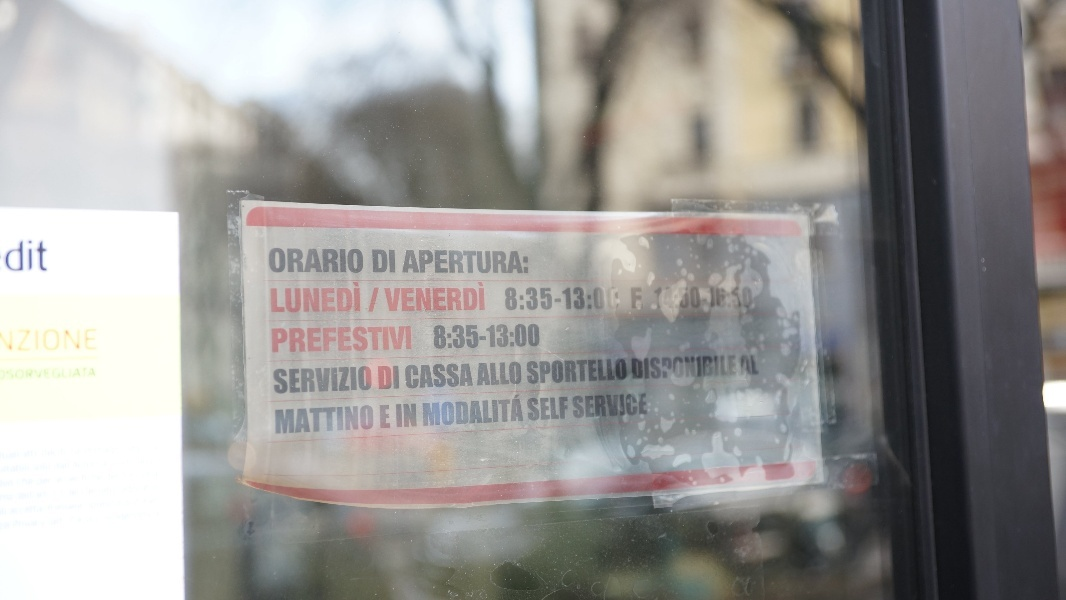text: (17, 238, 32, 273), (33, 238, 48, 273), (433, 394, 448, 427), (449, 394, 464, 427), (465, 394, 480, 427), (481, 394, 496, 427), (497, 394, 512, 427), (273, 281, 288, 313), (289, 281, 304, 313), (305, 281, 320, 313), (321, 281, 336, 313), (337, 281, 352, 313), (385, 281, 400, 312), (401, 281, 416, 312), (417, 281, 432, 312), (433, 281, 448, 312), (449, 281, 464, 312), (465, 281, 480, 312), (3, 238, 16, 273), (289, 405, 304, 435), (305, 405, 320, 435), (321, 405, 336, 435), (337, 405, 352, 435), (353, 405, 368, 435), (273, 325, 288, 354), (289, 325, 304, 354), (305, 325, 320, 354), (321, 325, 336, 354), (337, 325, 352, 354), (353, 325, 368, 354), (369, 325, 384, 354), (385, 325, 400, 354), (273, 366, 288, 395), (289, 366, 304, 395), (305, 366, 320, 395), (321, 366, 336, 395), (337, 366, 352, 395), (353, 366, 368, 395), (529, 358, 544, 386), (545, 358, 560, 386), (561, 358, 576, 386), (577, 358, 592, 386), (593, 358, 608, 386), (609, 358, 624, 386), (721, 355, 737, 381), (433, 323, 448, 350), (449, 323, 464, 350), (465, 323, 480, 350), (481, 323, 496, 350), (497, 323, 512, 350), (513, 323, 528, 350), (417, 363, 432, 390), (433, 363, 448, 390), (449, 363, 464, 390), (577, 393, 592, 420), (593, 393, 608, 420), (609, 393, 624, 420), (625, 393, 640, 420), (385, 365, 401, 390), (401, 404, 417, 429), (481, 361, 496, 387), (497, 361, 512, 387), (641, 355, 656, 381), (657, 355, 672, 381), (673, 355, 688, 381), (689, 355, 704, 381), (705, 355, 720, 381), (275, 405, 288, 435), (513, 250, 529, 274), (273, 248, 288, 273), (289, 248, 304, 273), (305, 248, 320, 273), (321, 248, 336, 273), (337, 248, 352, 273), (529, 397, 544, 422), (545, 397, 560, 422), (81, 329, 97, 352), (513, 394, 524, 427), (417, 250, 432, 274), (433, 250, 448, 274), (449, 250, 464, 274), (465, 250, 480, 274), (481, 250, 496, 274), (497, 250, 512, 274), (577, 287, 592, 311), (593, 287, 608, 311), (513, 287, 528, 311), (529, 287, 544, 311), (657, 287, 672, 310), (673, 287, 688, 310), (33, 329, 48, 352), (49, 329, 64, 352), (65, 329, 80, 352), (562, 287, 576, 311), (721, 286, 736, 308), (737, 286, 752, 308), (1, 330, 16, 352), (529, 323, 541, 350), (689, 287, 703, 310), (18, 329, 32, 352), (401, 325, 412, 354), (405, 363, 416, 390), (423, 394, 432, 427), (353, 248, 364, 273), (373, 249, 384, 273), (385, 249, 396, 273), (609, 287, 620, 311), (513, 361, 523, 387), (353, 281, 361, 313), (465, 363, 474, 390), (741, 355, 752, 377), (406, 250, 416, 274), (631, 355, 640, 381), (561, 397, 570, 422), (710, 286, 720, 308), (630, 287, 640, 309), (641, 393, 649, 420), (545, 287, 553, 311), (1, 368, 16, 380), (17, 368, 32, 380), (33, 368, 48, 380), (49, 368, 64, 380), (65, 368, 80, 380), (81, 368, 96, 380), (505, 287, 512, 311), (481, 281, 486, 312), (753, 355, 760, 377), (378, 365, 384, 390), (369, 405, 374, 435), (385, 405, 391, 429), (379, 405, 384, 429), (369, 366, 373, 395), (268, 248, 272, 273), (396, 404, 400, 429), (625, 358, 628, 386), (573, 393, 576, 420), (641, 287, 644, 309), (270, 281, 272, 313), (271, 325, 272, 354), (527, 358, 528, 386), (479, 361, 480, 387), (655, 287, 656, 310), (753, 286, 754, 308)
